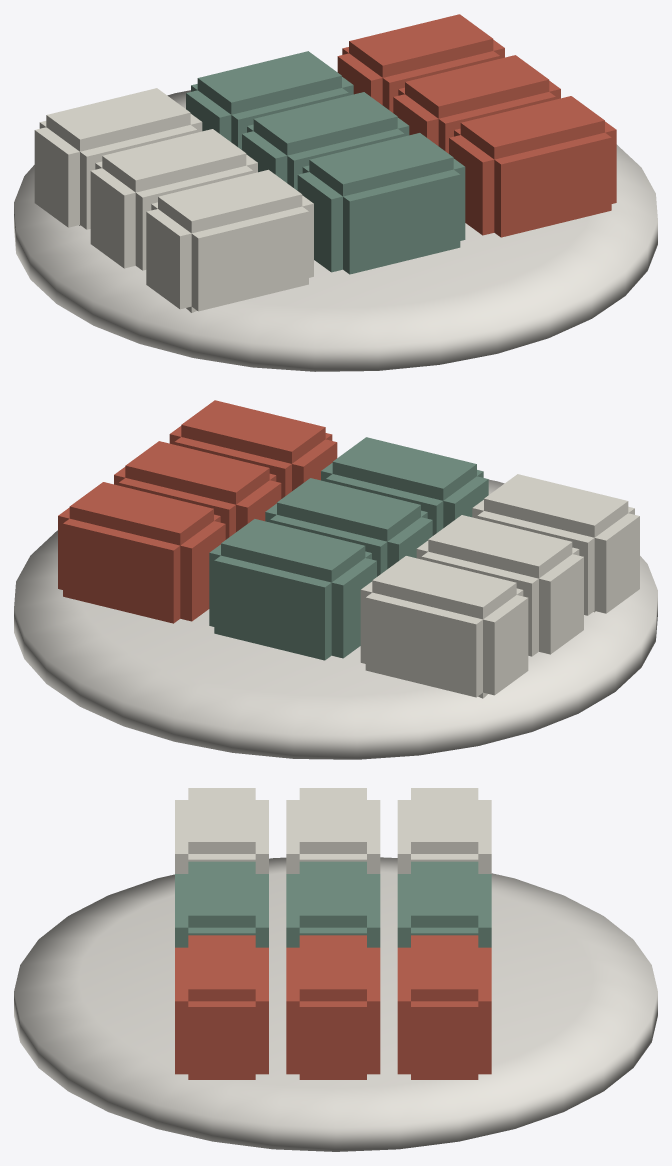
The model's file is dish_uiro.glb.
The picture shows the model from 3 angles, top to bottom: view 1: azimuth 30°, elevation 25°; view 2: azimuth 150°, elevation 25°; view 3: azimuth 270°, elevation 25°; orthographic projection.
Parts seen in each view (by area): view 1: dish_uiro_Warm_white_coating, dish_uiro_Paper_page_edges, dish_uiro_Sage_powder_coat, dish_uiro_Fair_vermilion; view 2: dish_uiro_Warm_white_coating, dish_uiro_Paper_page_edges, dish_uiro_Fair_vermilion, dish_uiro_Sage_powder_coat; view 3: dish_uiro_Warm_white_coating, dish_uiro_Fair_vermilion, dish_uiro_Sage_powder_coat, dish_uiro_Paper_page_edges.
Part boxes in pixels (<box>): dish_uiro_Warm_white_coating: <box>14,90,657,371</box>; dish_uiro_Paper_page_edges: <box>34,88,313,312</box>; dish_uiro_Sage_powder_coat: <box>186,51,465,274</box>; dish_uiro_Fair_vermilion: <box>337,14,616,237</box>; dish_uiro_Warm_white_coating: <box>14,479,657,759</box>; dish_uiro_Paper_page_edges: <box>360,474,639,698</box>; dish_uiro_Fair_vermilion: <box>58,400,337,623</box>; dish_uiro_Sage_powder_coat: <box>209,437,488,660</box>; dish_uiro_Warm_white_coating: <box>14,857,657,1151</box>; dish_uiro_Fair_vermilion: <box>175,935,491,1079</box>; dish_uiro_Sage_powder_coat: <box>175,861,491,947</box>; dish_uiro_Paper_page_edges: <box>175,788,491,873</box>.
Size of the model in its own units: 0.48 by 0.125 by 0.48.
